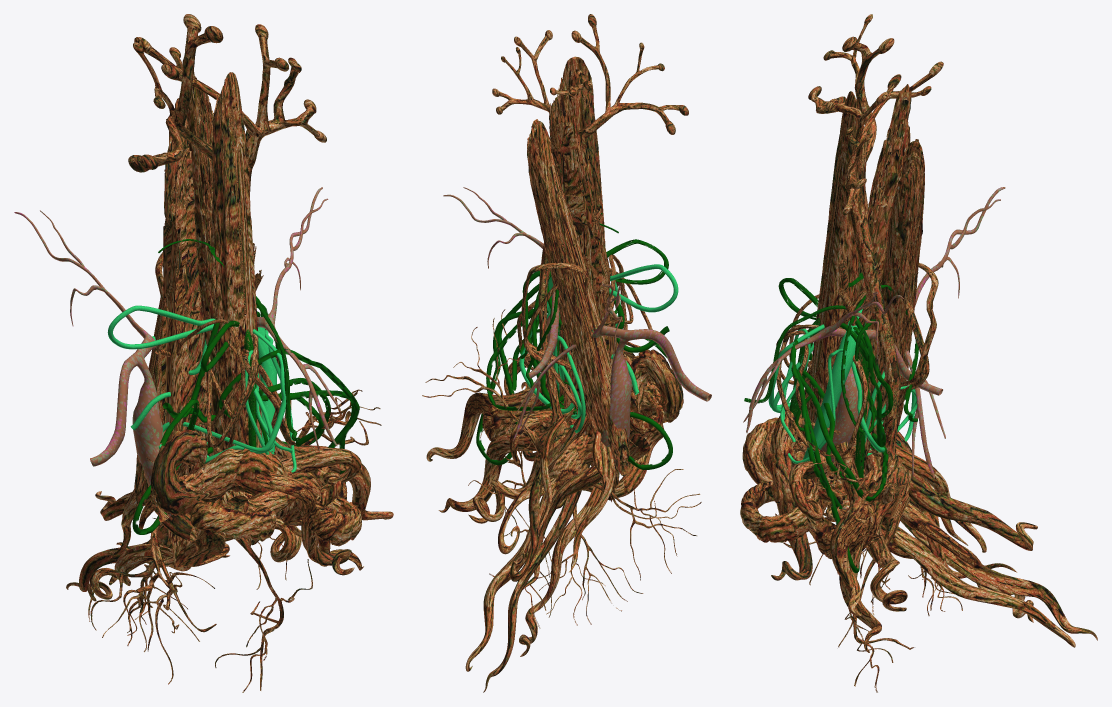
The model's file is templedmredwoodtree1.glb.
3 renders of one model, left to right at view 1: azimuth 30°, elevation 25°; view 2: azimuth 150°, elevation 25°; view 3: azimuth 270°, elevation 25°, orthographic. The views are drawn at different scales.
Parts seen in each view (by area): view 1: neuron_cell_1131_a.005, brambles_flat_brambles.001, a_steak_raw_132.026, plant.014, a_steak_raw_132.028, a_steak_raw_132.024, human_liver_1128_gallbladder.009, plant.013, human_liver_1128_gallbladder.010, jump_rope_246.065, jump_rope_246.052, jump_rope_246.053 (+11 smaller); view 2: plant.013, neuron_cell_1131_a.005, a_steak_raw_132.027, plant.014, a_steak_raw_132.028, brambles_flat_brambles.001, human_liver_1128_gallbladder.009, a_steak_raw_132.026, jump_rope_246.051, jump_rope_246.065, jump_rope_246.053, jump_rope_246.060 (+7 smaller); view 3: neuron_cell_1131_a.005, plant.013, plant.014, a_steak_raw_132.026, brambles_flat_brambles.001, a_steak_raw_132.027, a_steak_raw_132.024, human_liver_1128_gallbladder.010, human_liver_1128_gallbladder.009, jump_rope_246.047, jump_rope_246.051, jump_rope_246.065 (+12 smaller).
Boxes of the visible parts, box(x1,y1,x2,y2) form: neuron_cell_1131_a.005: box(88, 14, 381, 692); brambles_flat_brambles.001: box(150, 429, 361, 546); a_steak_raw_132.026: box(212, 72, 262, 449); plant.014: box(148, 432, 393, 575); a_steak_raw_132.028: box(161, 98, 207, 559); a_steak_raw_132.024: box(182, 55, 225, 453); human_liver_1128_gallbladder.009: box(14, 210, 171, 516); plant.013: box(66, 453, 216, 601); human_liver_1128_gallbladder.010: box(257, 187, 340, 450); jump_rope_246.065: box(218, 348, 359, 483); jump_rope_246.052: box(152, 329, 286, 466); jump_rope_246.053: box(107, 305, 215, 444); plant.013: box(465, 408, 614, 692); neuron_cell_1131_a.005: box(422, 14, 701, 628); a_steak_raw_132.027: box(527, 119, 629, 475); plant.014: box(426, 349, 663, 523); a_steak_raw_132.028: box(550, 115, 619, 501); brambles_flat_brambles.001: box(482, 349, 683, 441); human_liver_1128_gallbladder.009: box(512, 283, 711, 465); a_steak_raw_132.026: box(562, 56, 605, 246); jump_rope_246.051: box(521, 262, 622, 408); jump_rope_246.065: box(476, 284, 624, 465); jump_rope_246.053: box(519, 264, 678, 413); jump_rope_246.060: box(522, 270, 672, 469); neuron_cell_1131_a.005: box(775, 14, 962, 692); plant.013: box(827, 431, 1097, 647); plant.014: box(744, 420, 907, 652); a_steak_raw_132.026: box(804, 91, 866, 482); brambles_flat_brambles.001: box(740, 368, 887, 558); a_steak_raw_132.027: box(881, 139, 924, 425); a_steak_raw_132.024: box(817, 84, 911, 514); human_liver_1128_gallbladder.010: box(743, 292, 942, 462); human_liver_1128_gallbladder.009: box(898, 187, 1005, 478); jump_rope_246.047: box(797, 369, 888, 501); jump_rope_246.051: box(882, 263, 938, 426); jump_rope_246.065: box(790, 338, 859, 573).
Bounding box in the file's own units: 0.708 × 1.5 × 0.7638.
6 materials, 6 textured.
